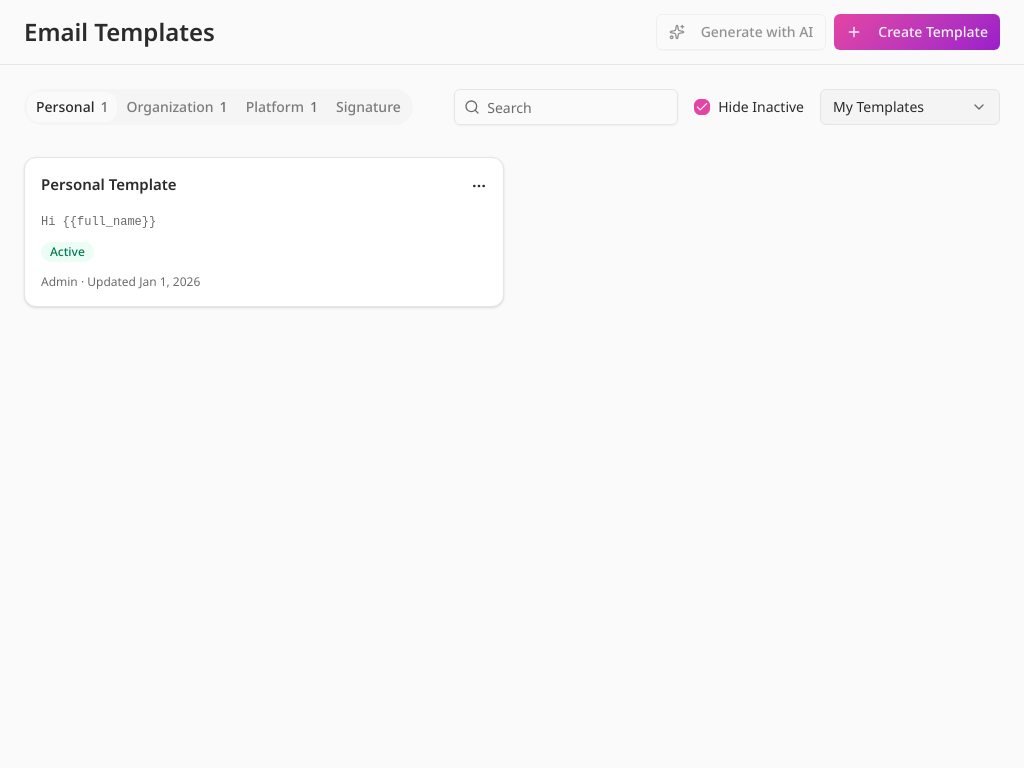
it: EmailTemplatesPage › shows send test email action and opens dialog
This screenshot has width=1024, height=768.
Click the tab "Organization 1".
click(177, 107)  # box [117,92,237,122]
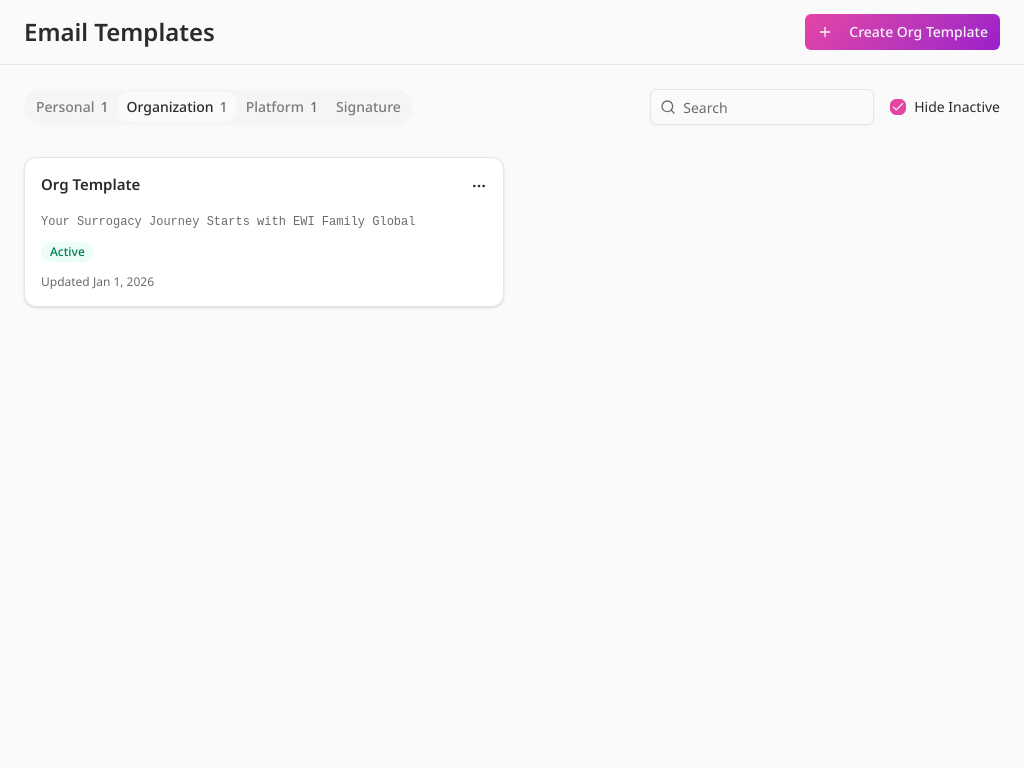
Click the button named "Actions for Org Template".
click(479, 186)  # box [463,170,495,202]
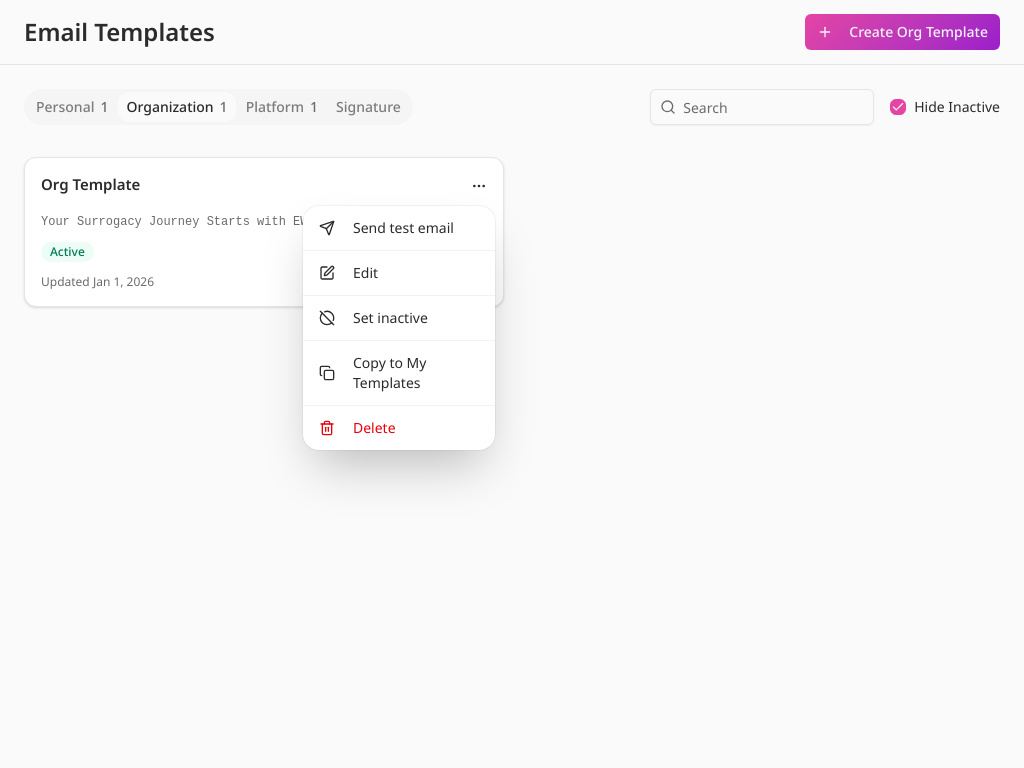
Expected: the menu item "Send test email" is shown
Click the menu item "Send test email".
click(386, 228)  # box [319,218,454,237]
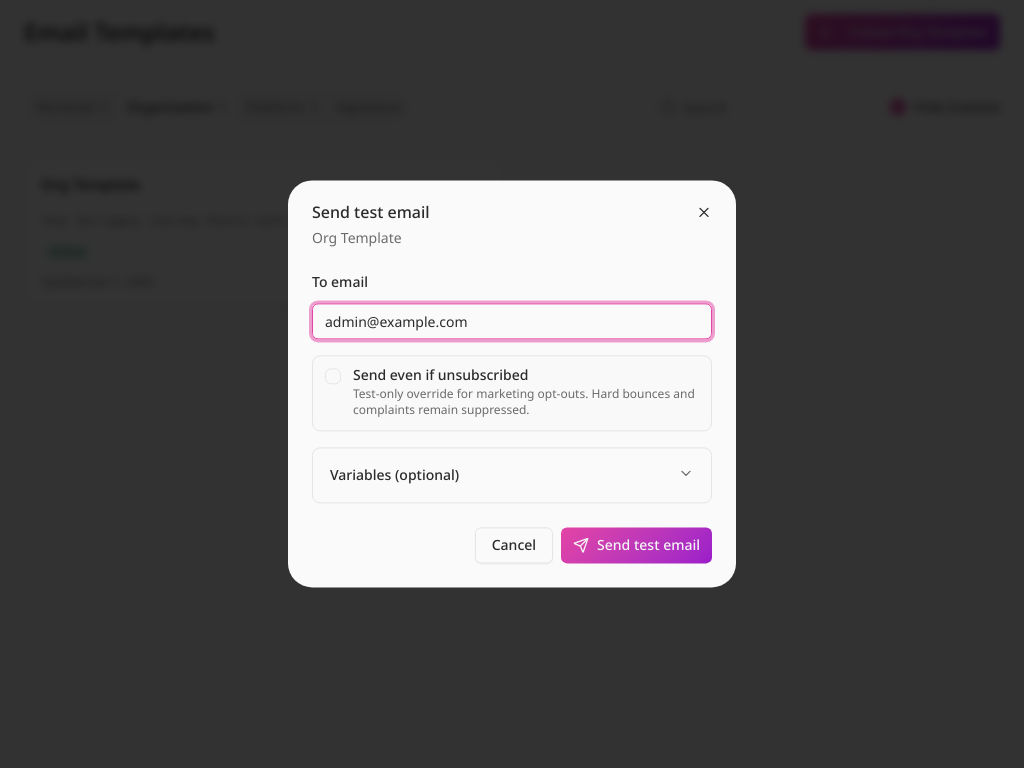
Expected: the field labelled "To email" holds "admin@example.com", [312,304,712,340]
